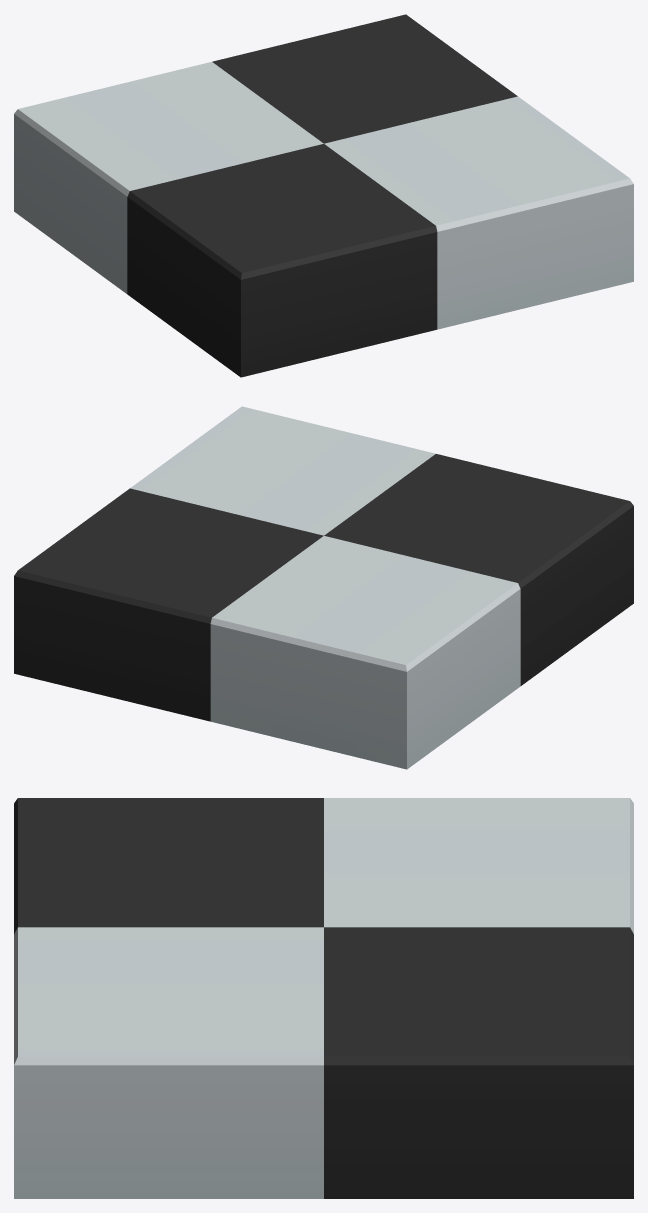
File: floor-kitchen-small.glb
3 views of the same model, one above another, from view 1: azimuth 30°, elevation 25°; view 2: azimuth 150°, elevation 25°; view 3: azimuth 270°, elevation 25° (orthographic). The views are drawn at different scales.
Parts seen in each view (by area): view 1: floor_kitchen_small; view 2: floor_kitchen_small; view 3: floor_kitchen_small.
Part boxes in pixels (x1,y1,x2,y2): floor_kitchen_small: (14, 14, 633, 377); floor_kitchen_small: (14, 406, 633, 769); floor_kitchen_small: (14, 798, 633, 1198).
Size of the model in its own units: 2 by 0.5001 by 2.
1 material, 1 textured.
